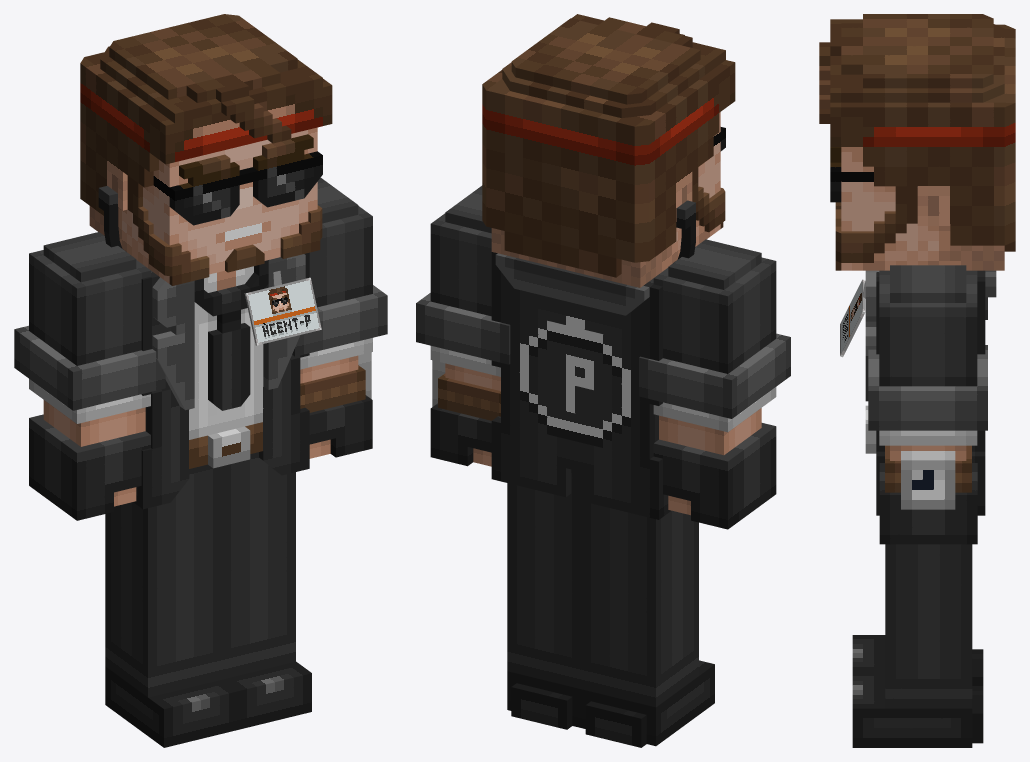
File: avatar_agent_p.gltf
The picture shows the model from 3 angles, left to right: view 1: azimuth 30°, elevation 25°; view 2: azimuth 150°, elevation 25°; view 3: azimuth 270°, elevation 25°; orthographic projection. The views are drawn at different scales.
Visible parts, largest first — view 1: avatar_agent_p_head, avatar_agent_p_arms, avatar_agent_p_legs, avatar_agent_p_body; view 2: avatar_agent_p_head, avatar_agent_p_arms, avatar_agent_p_legs, avatar_agent_p_body; view 3: avatar_agent_p_head, avatar_agent_p_arms, avatar_agent_p_legs, avatar_agent_p_body.
Part boxes in pixels (x1,y1,x2,y2): avatar_agent_p_head: (80, 14, 332, 285); avatar_agent_p_arms: (14, 178, 387, 520); avatar_agent_p_legs: (105, 452, 311, 747); avatar_agent_p_body: (133, 252, 321, 509); avatar_agent_p_head: (482, 14, 735, 287); avatar_agent_p_arms: (416, 185, 790, 529); avatar_agent_p_legs: (507, 469, 714, 747); avatar_agent_p_body: (491, 252, 670, 519); avatar_agent_p_head: (819, 14, 1015, 270); avatar_agent_p_arms: (868, 265, 987, 544); avatar_agent_p_legs: (852, 544, 983, 747); avatar_agent_p_body: (840, 270, 996, 515).
Bounding box in the file's own units: 1.05 × 2.09 × 0.5584.
1 material, 1 textured.
